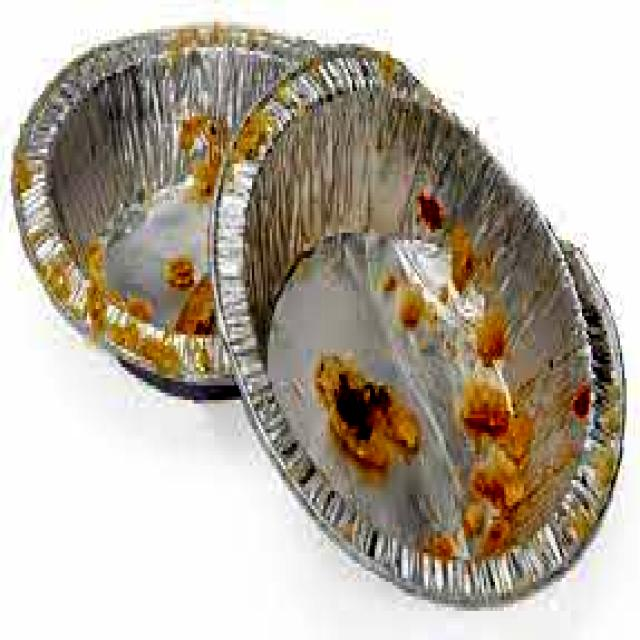Trash: (219, 43, 629, 594), (16, 24, 373, 390)
